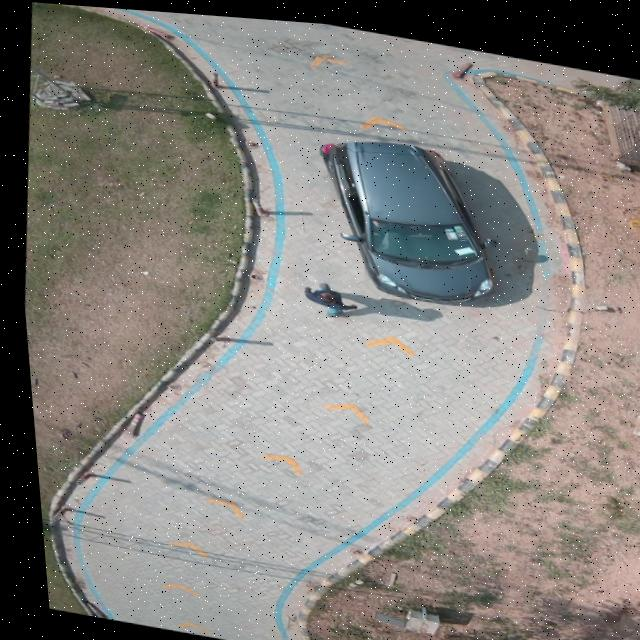car: (319, 134, 492, 297)
